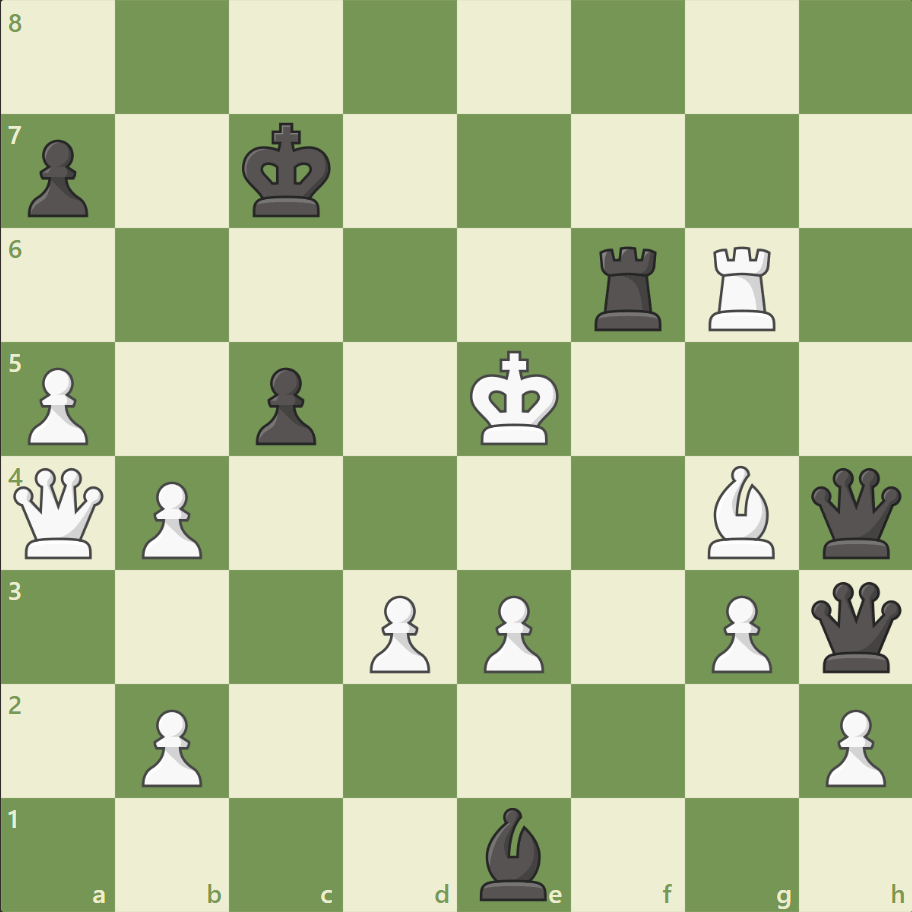B: (698, 460, 782, 563)
K: (465, 344, 565, 452)
P: (20, 359, 95, 450), (133, 473, 208, 564), (474, 586, 549, 677), (701, 586, 776, 677), (133, 700, 208, 791), (361, 586, 435, 677), (815, 700, 889, 791)
Q: (10, 463, 109, 562)
R: (700, 239, 783, 336)
b: (471, 801, 555, 904)
k: (238, 117, 338, 225)
p: (20, 132, 95, 223), (247, 359, 322, 450)
q: (805, 576, 904, 676), (805, 463, 904, 562)
r: (587, 239, 670, 336)
